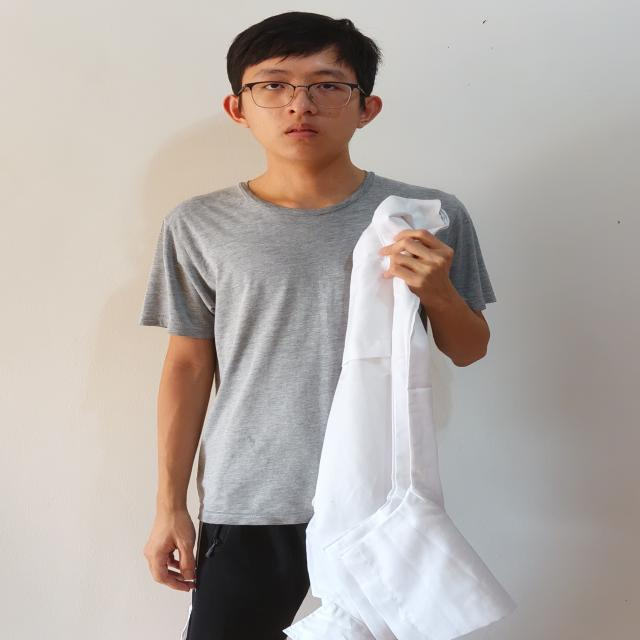person_without_labcoat: (140, 12, 515, 640)
